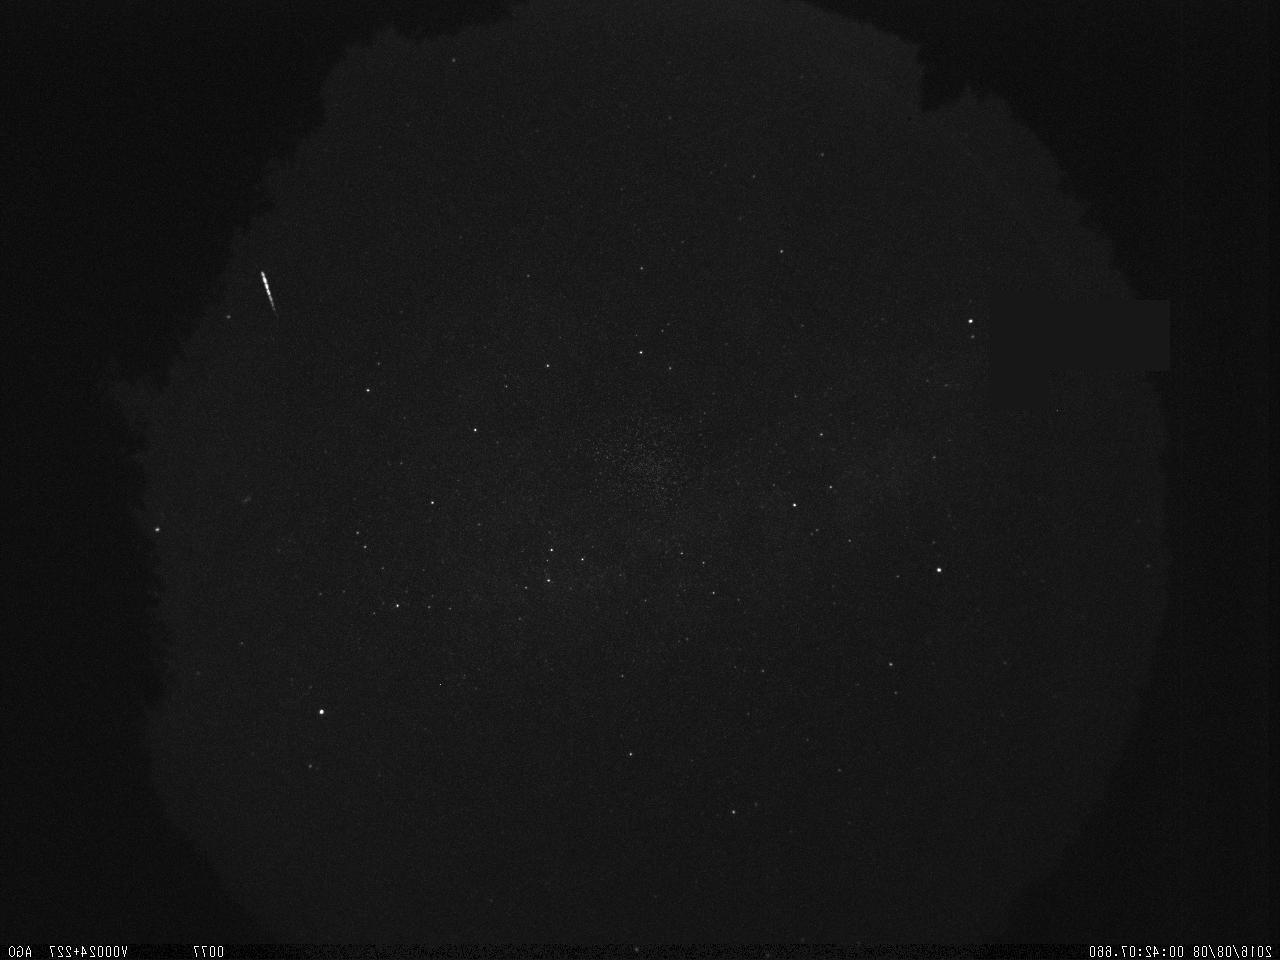meteor: (250, 264, 282, 315)
